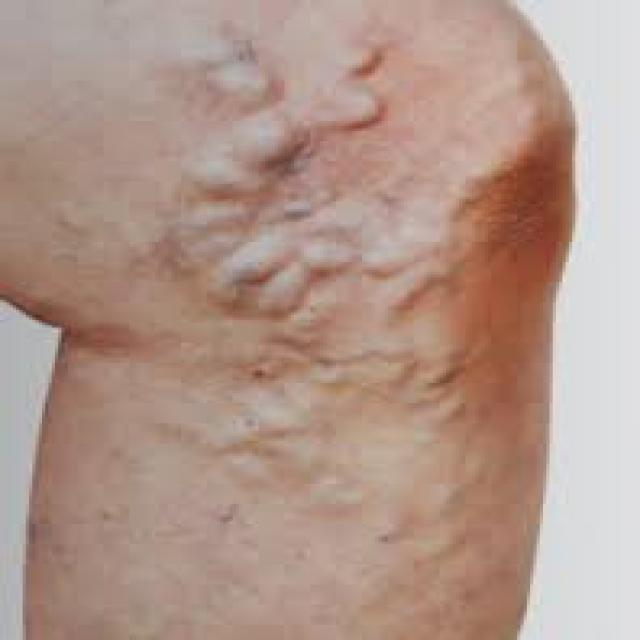Varicose: (123, 39, 499, 452)
